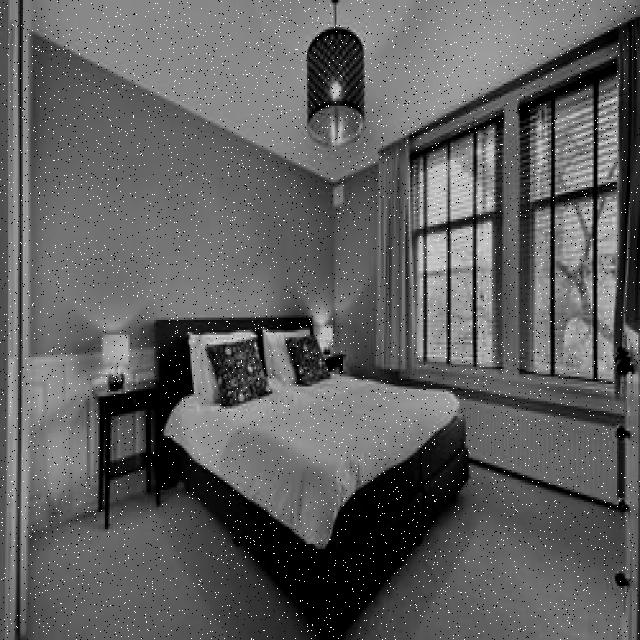bed: (173, 308, 468, 480)
